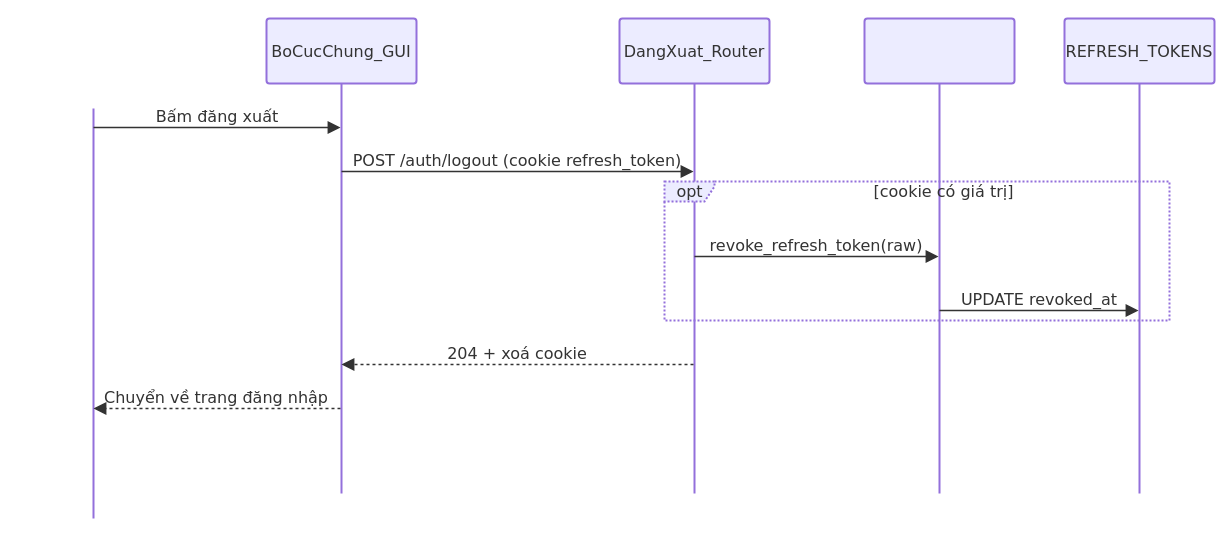
Image size: 1232x536. Some labels were removed from this diagram. The box of each missing label's shape, as (x1, y1, x2, y2) in pixels:
DangXuat_Service: (863, 17, 1015, 494)
Người dùng: (17, 17, 169, 519)
